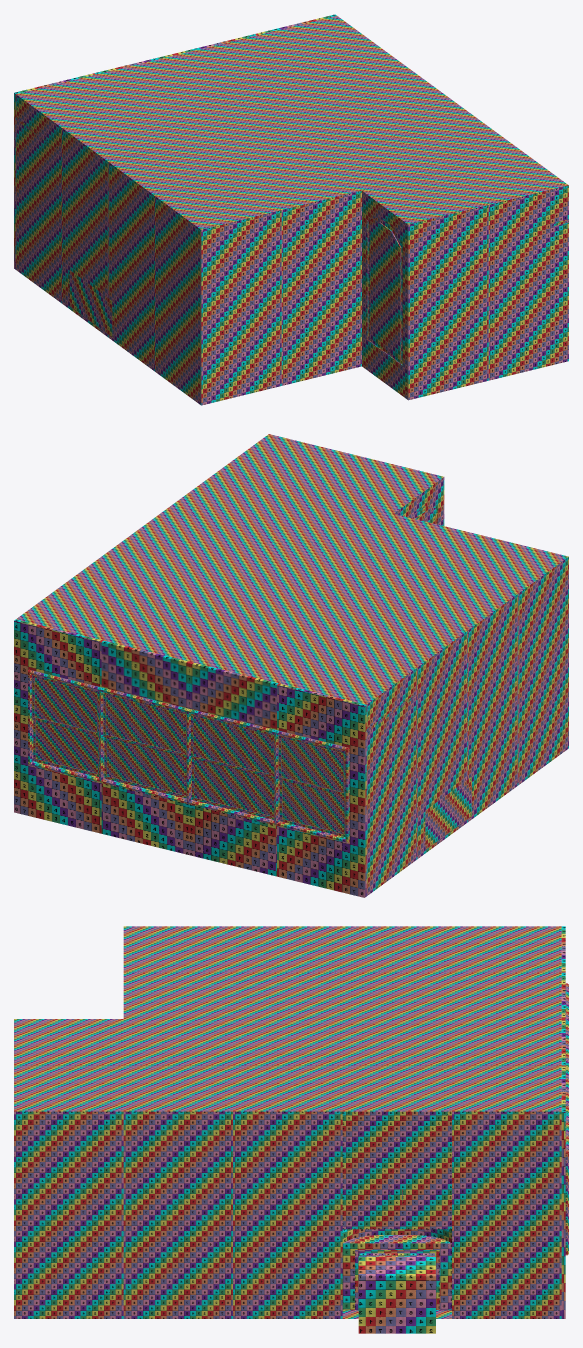
Rendered from witch hut non interactables no light.fbx.
The picture shows the model from 3 angles, top to bottom: view 1: azimuth 30°, elevation 25°; view 2: azimuth 150°, elevation 25°; view 3: azimuth 270°, elevation 25°; orthographic projection. The views are drawn at different scales.
Parts seen in each view (by area): view 1: prop_handle17, pCube933, pCylinder230; view 2: prop_handle17, pCube933, pPlane97, pPlane100, pPlane98, pPlane99, pPlane96, pPlane101, pPlane95, pPlane102, pCylinder230; view 3: prop_handle17, pCube933.
Boxes of the visible parts, bbox=[...] form: prop_handle17: bbox=[14, 14, 568, 405]; pCube933: bbox=[16, 16, 568, 229]; pCylinder230: bbox=[69, 270, 112, 336]; prop_handle17: bbox=[14, 477, 568, 897]; pCube933: bbox=[16, 434, 568, 704]; pPlane97: bbox=[191, 713, 274, 778]; pPlane100: bbox=[103, 692, 186, 756]; pPlane98: bbox=[192, 758, 274, 819]; pPlane99: bbox=[104, 737, 186, 798]; pPlane96: bbox=[278, 735, 345, 795]; pPlane101: bbox=[32, 675, 98, 735]; pPlane95: bbox=[279, 780, 345, 836]; pPlane102: bbox=[33, 719, 98, 776]; pCylinder230: bbox=[425, 776, 471, 849]; prop_handle17: bbox=[14, 926, 568, 1333]; pCube933: bbox=[14, 926, 561, 1111].
Bounding box in the file's own units: 5795 × 2722 × 6588.
